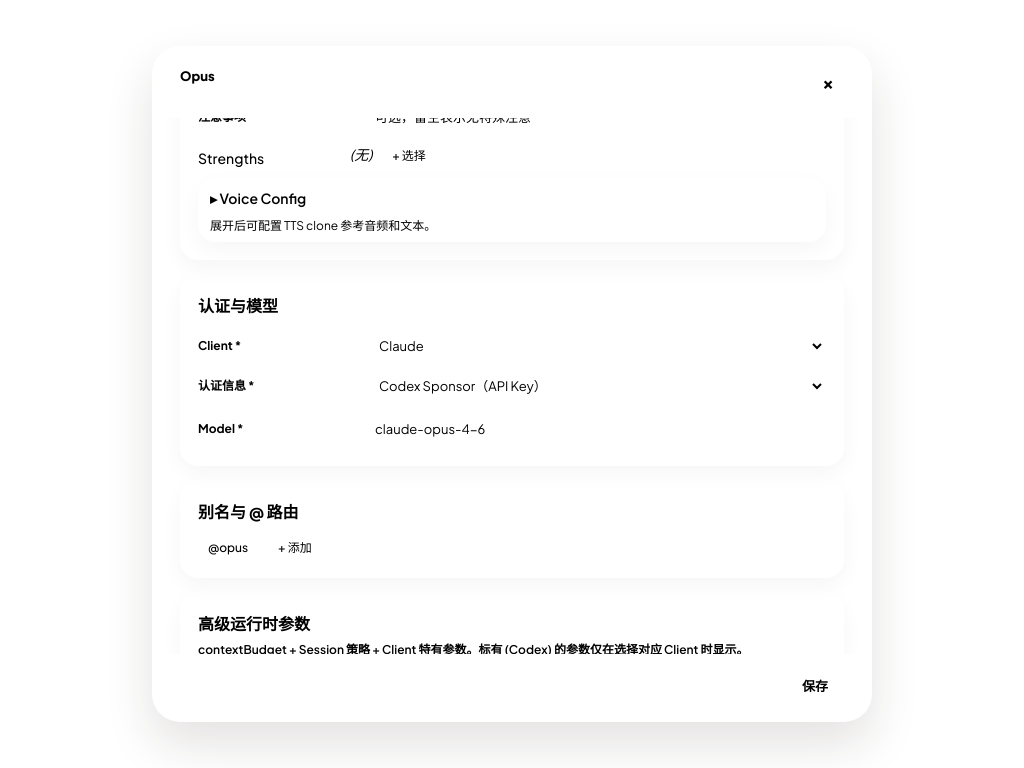
Scenario: HubAgentEditor › resets defaultModel when switching Provider to prevent stale model carry-over
(page scrolled)
Expected: the field named "Model" holds "claude-opus-4-6", [360,410,826,448]
Step 1. Select "Codex Sponsor（API Key）" in the dropdown named "认证信息" → x=594, y=386, box [362,370,826,402]
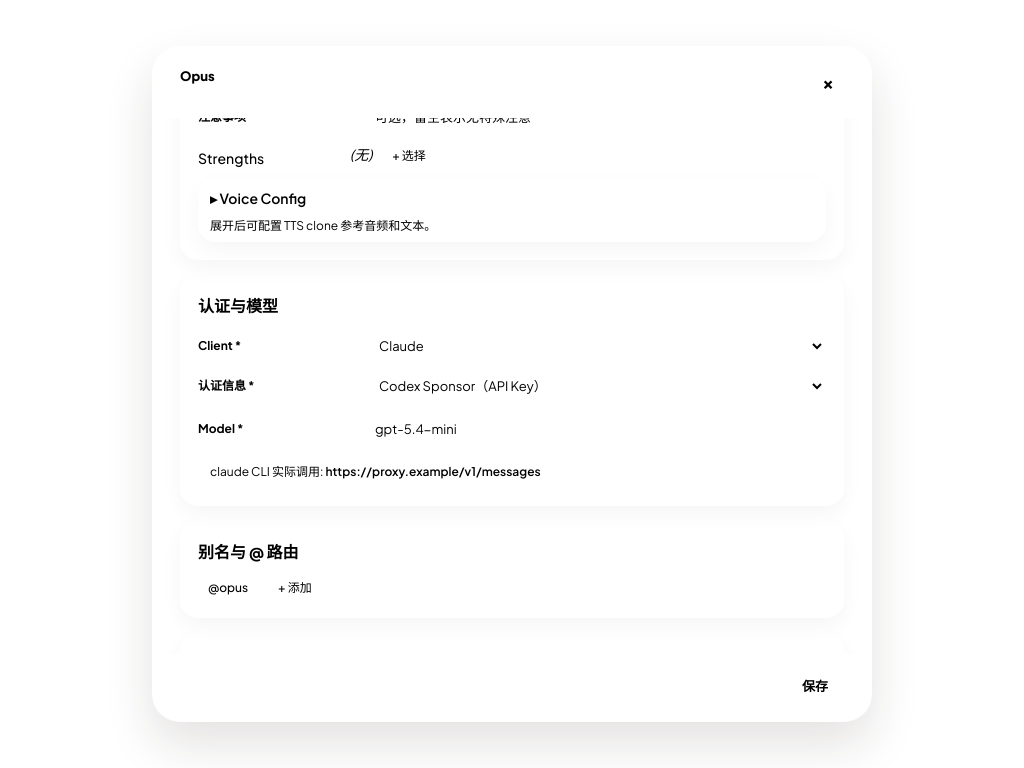
Expected: the field named "Model" does not hold "claude-opus-4-6", [360,410,826,448]
